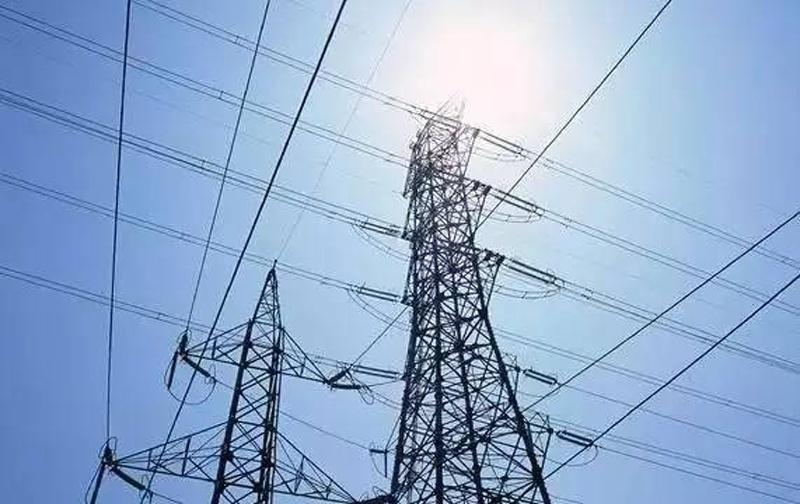power_tower: (377, 94, 548, 487), (163, 286, 343, 498)
